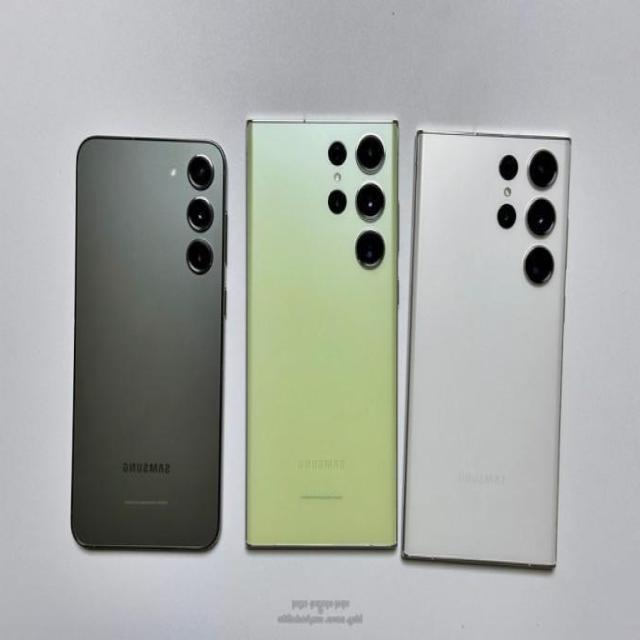mobile: (402, 130, 574, 572), (245, 119, 399, 550), (68, 135, 227, 551)
